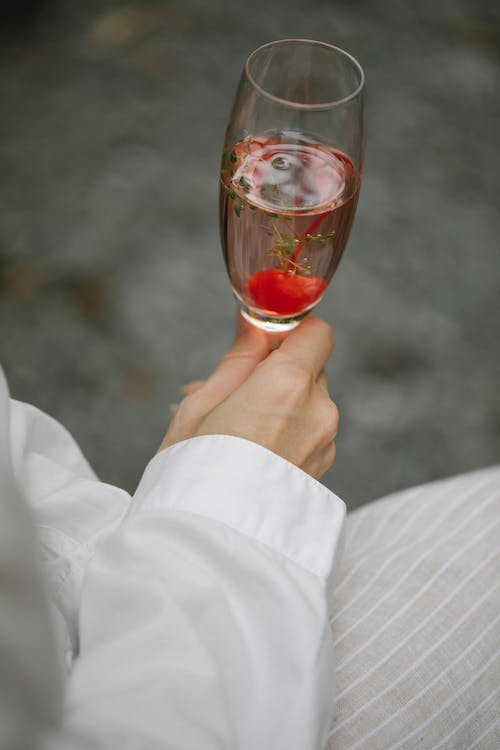alcohol: (215, 35, 367, 331)
